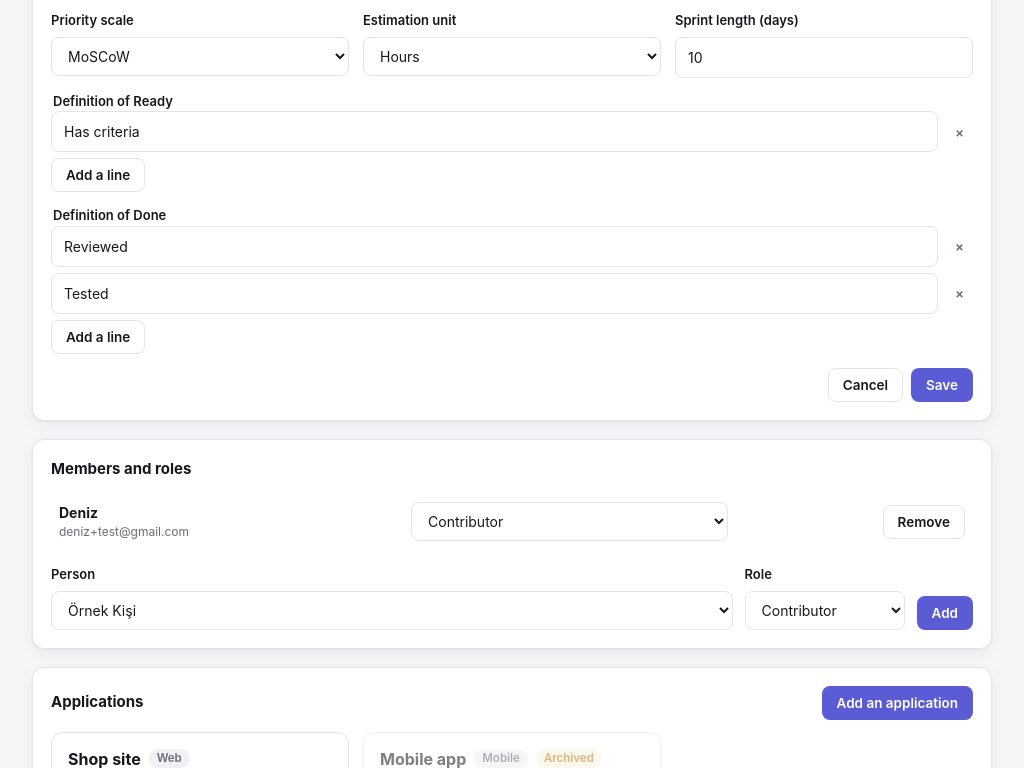
Test: the project page: editing › keeps the form open and shows the API's refusal
The width and height of the screenshot is (1024, 768).
(page scrolled)
Click the button "Save": x=942, y=384 x1=911 y1=368 x2=973 y2=402
(page scrolled)
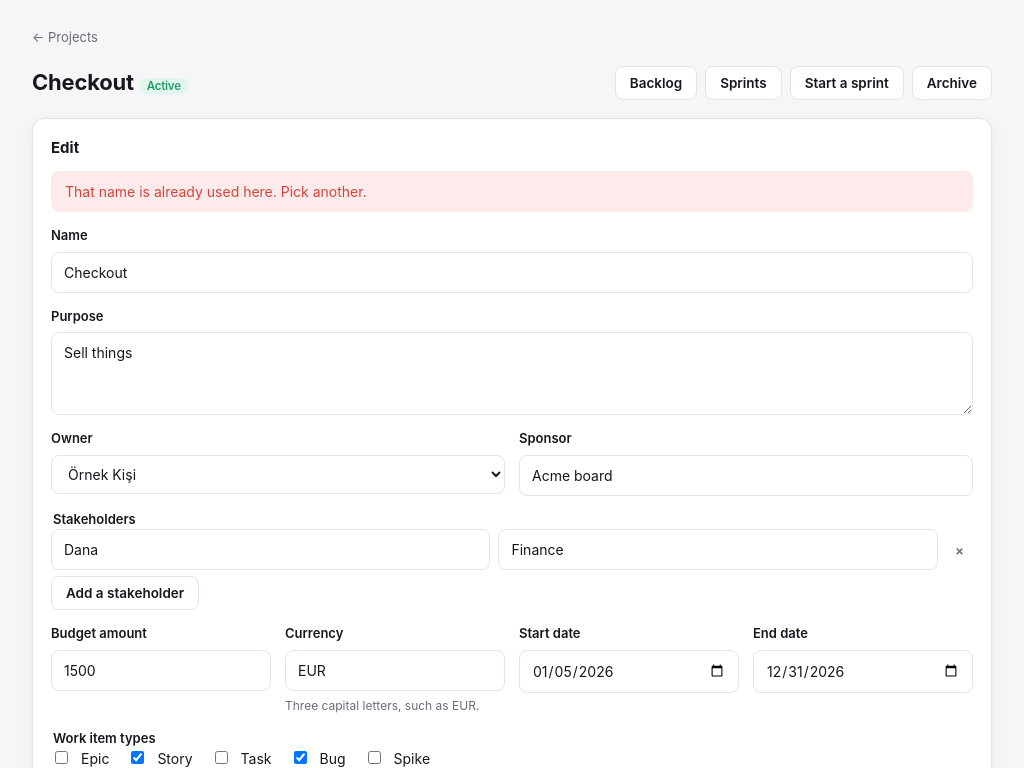
Expected: the field labelled "Name" is shown, x1=51 y1=252 x2=973 y2=292
Result: the text "That name is already used here. Pick another." is shown at x1=51 y1=171 x2=973 y2=212
